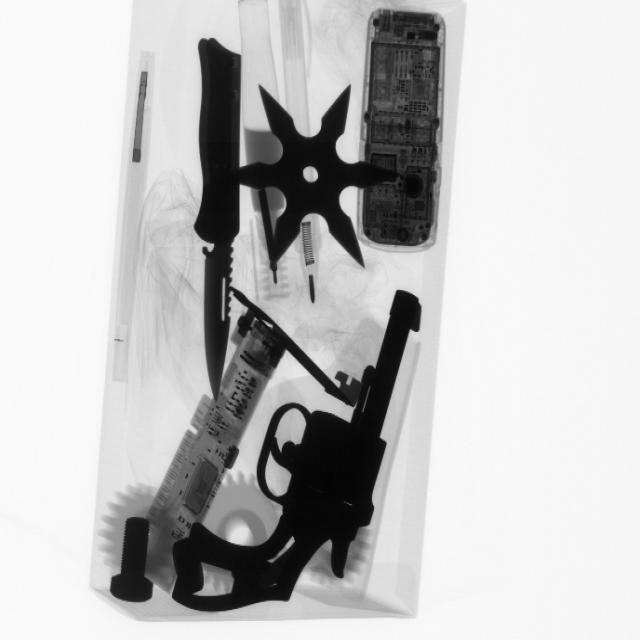GUN: (177, 287, 428, 617)
KNIFE: (182, 45, 257, 394)
SHURIKEN: (237, 71, 396, 277)
